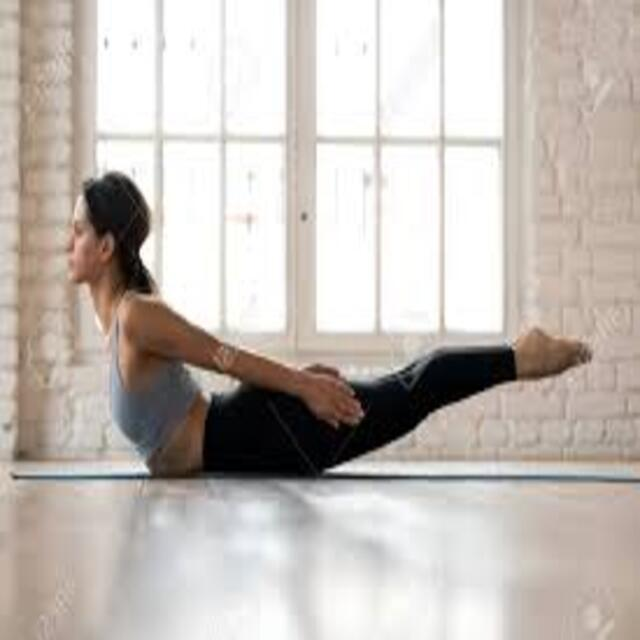Locust_Pose: (64, 171, 592, 485)
